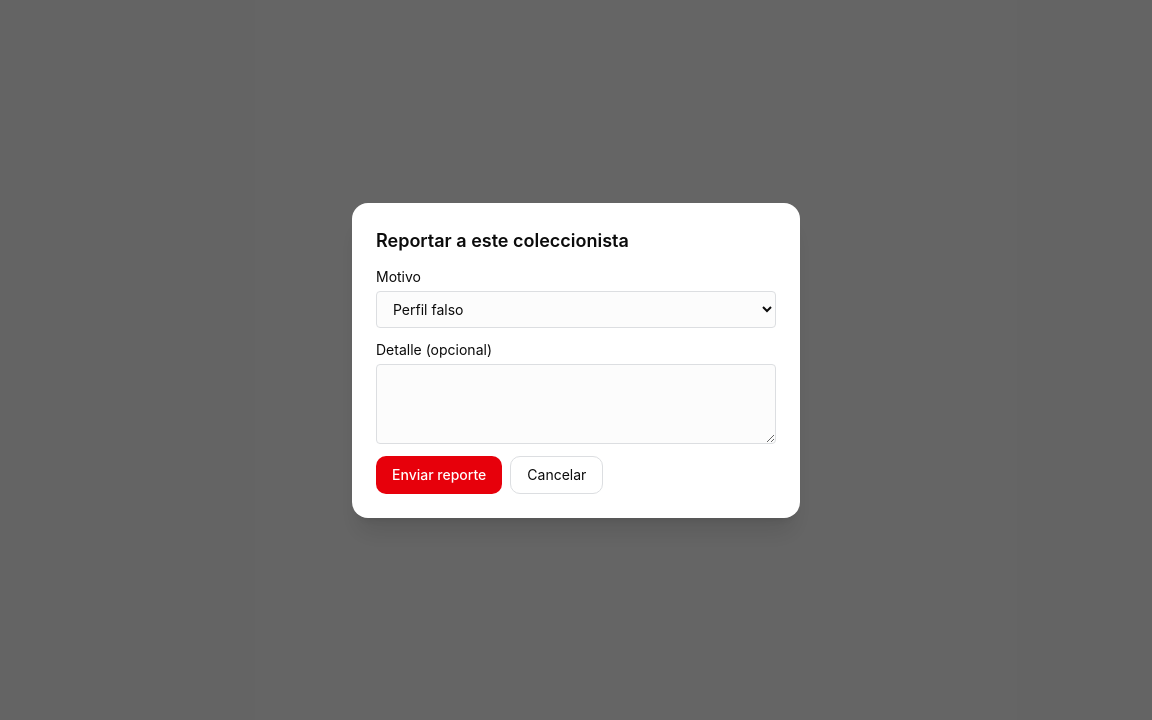
Test case: ReportModal › shows an error message when the submit fails
Step 1. Click the button with test id "report-submit" → coordinates (439, 474), box [376,456,502,494]
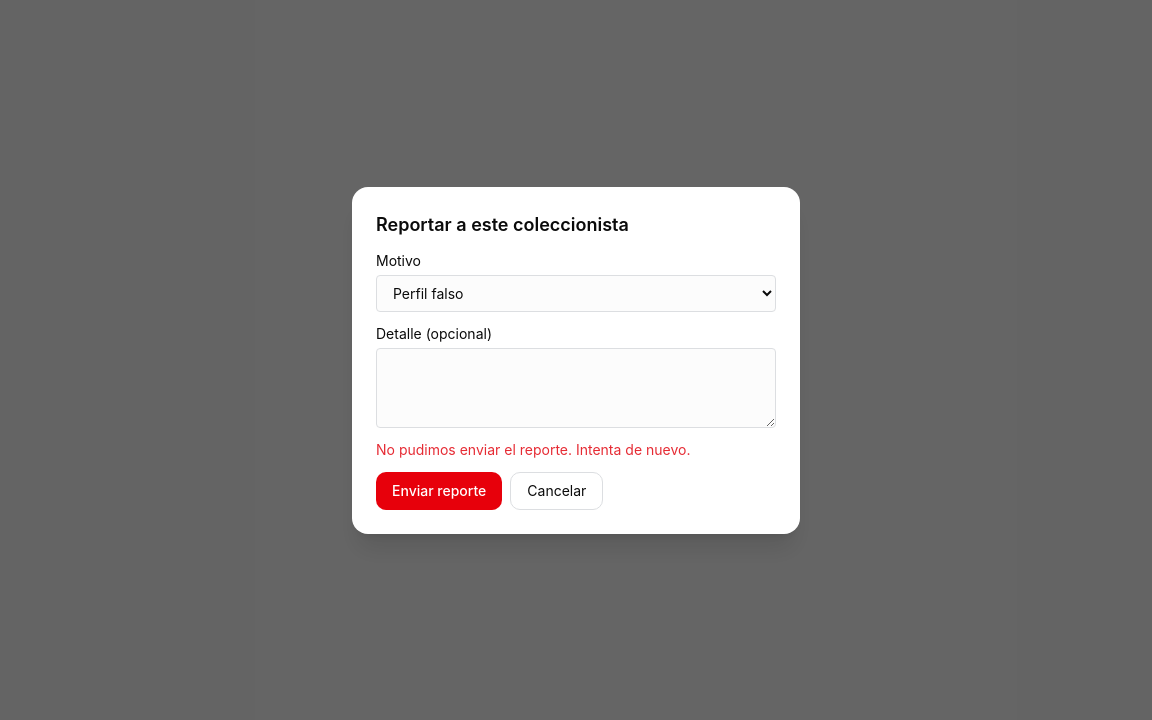
Result: the message "No pudimos enviar el reporte. Intenta de nuevo." is shown at [376,440,690,458]
